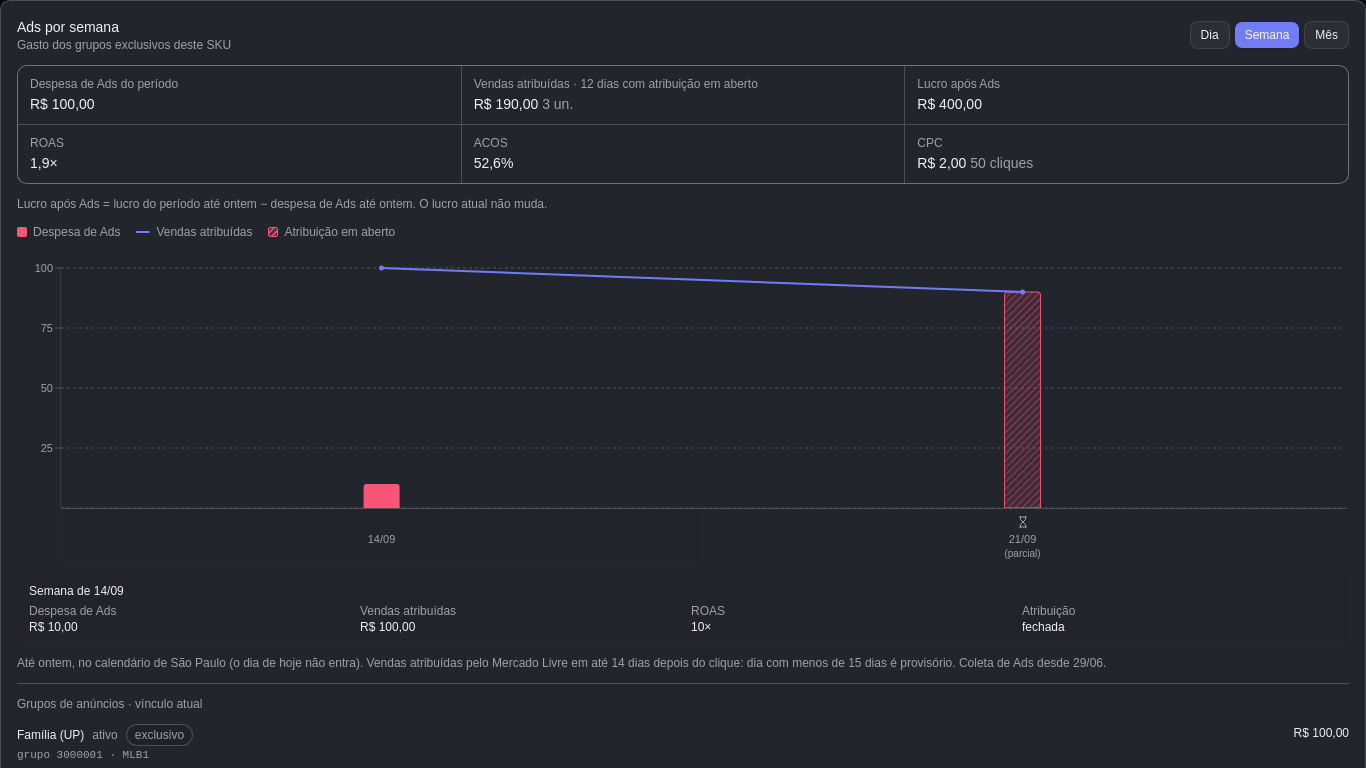
Test case: PainelAds › atribuição em aberto: provisória no detalhe e legenda só com o que existe
Click the button with aria-label "Semana de 21/09" at (1022, 536), box x1=702 y1=509 x2=1343 y2=563
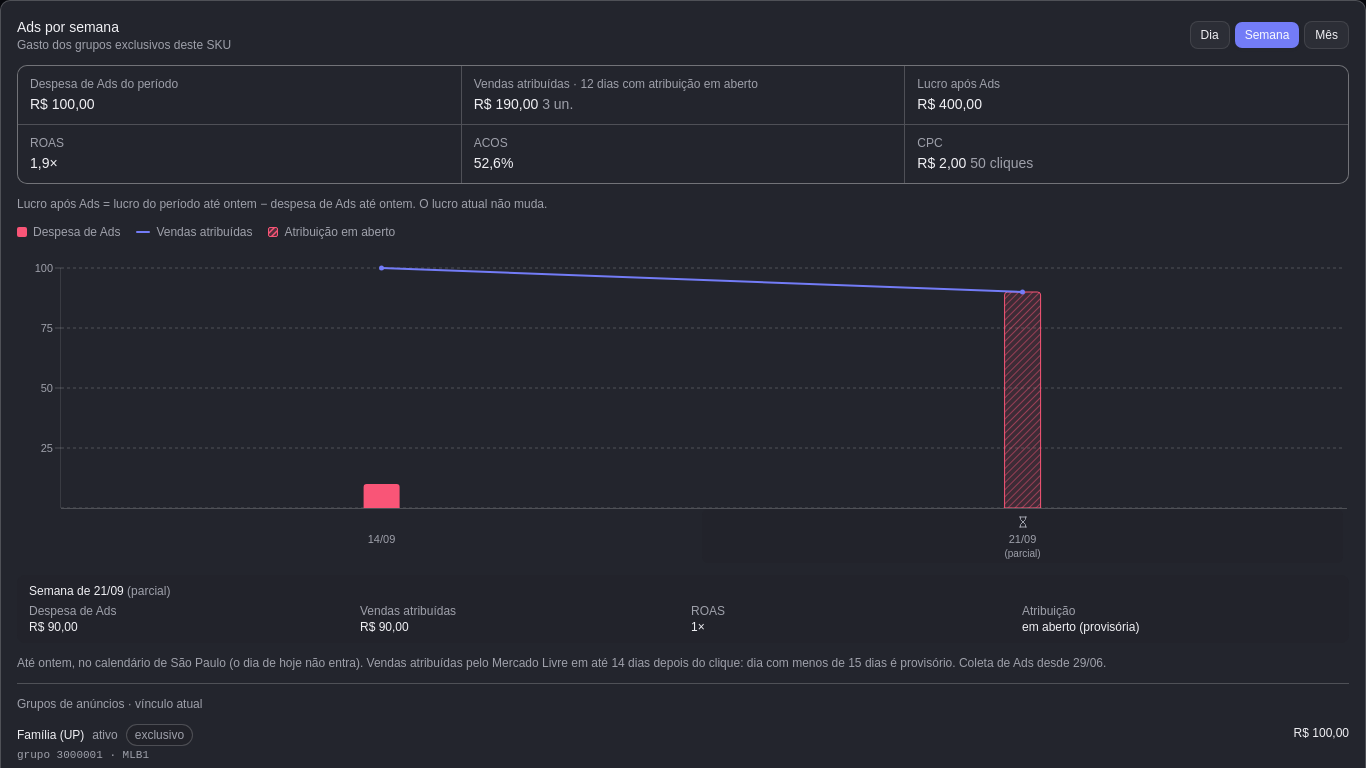
Expected: the list item "Atribuição em aberto" is shown, x1=268 y1=224 x2=395 y2=240
Expected: the text "em aberto (provisória)" is shown, x1=1022 y1=620 x2=1139 y2=634
